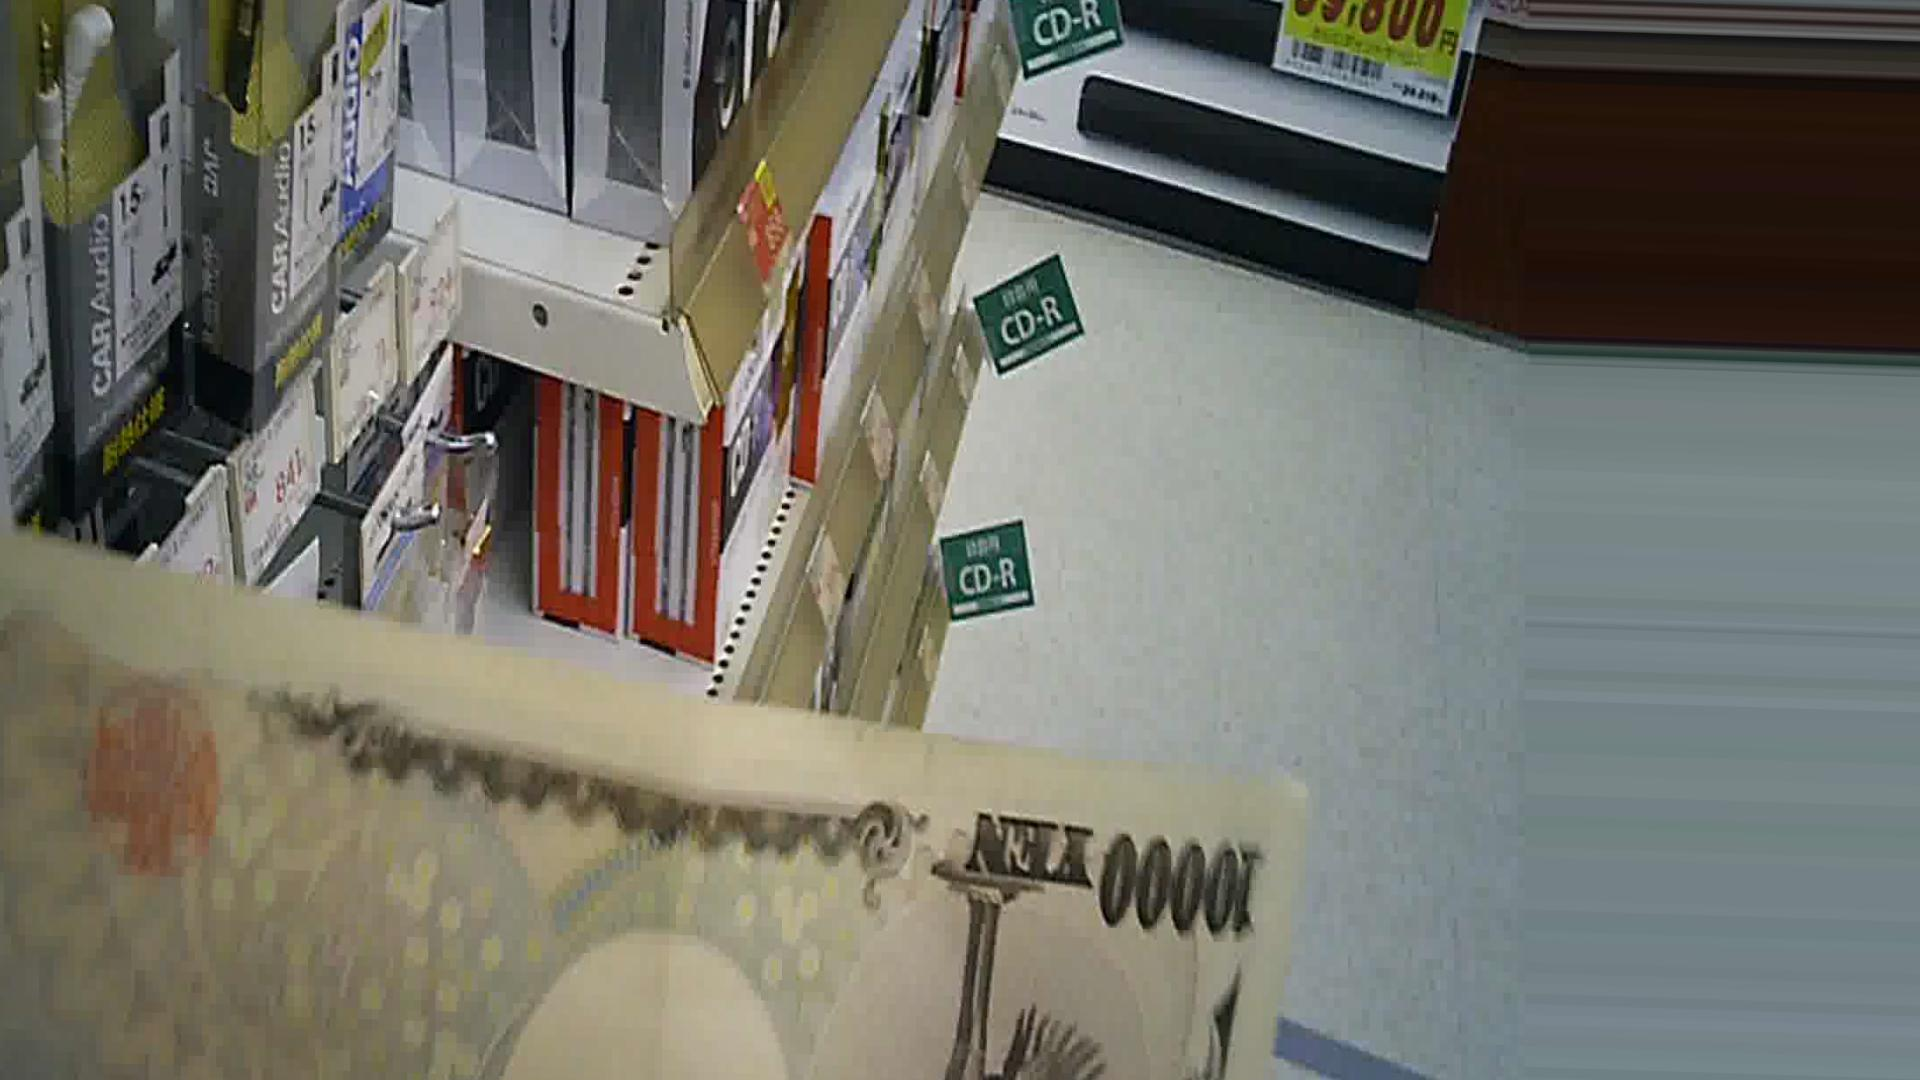10,000 Yen: (96, 556, 1345, 1079)
